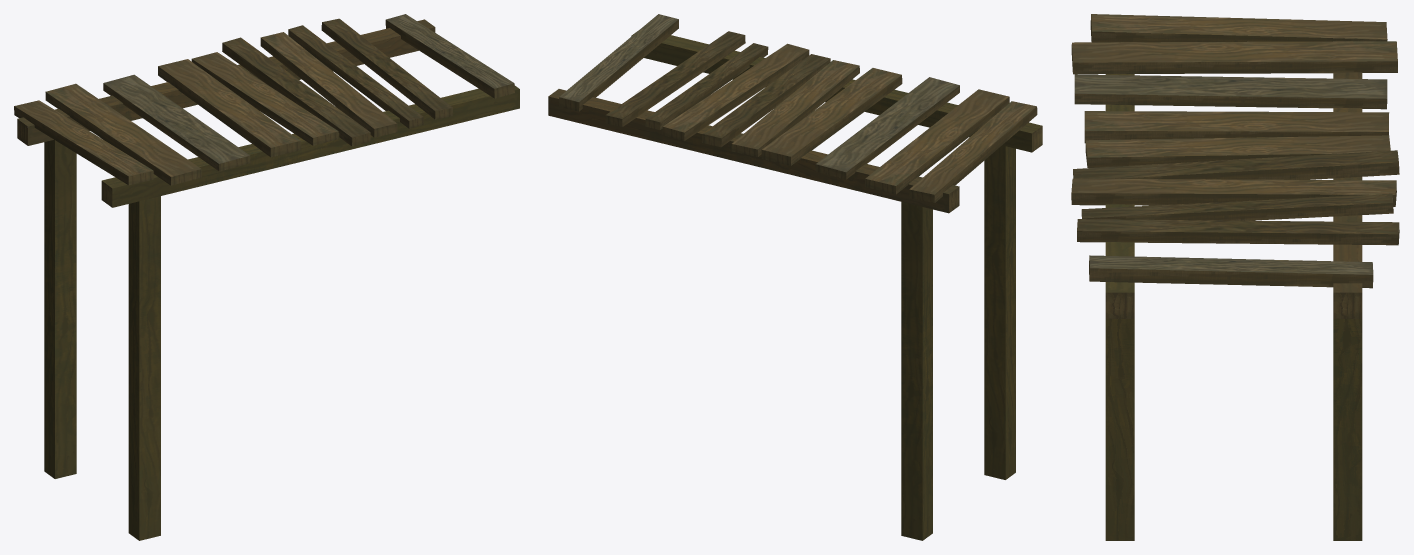
Rendered from Docks01.fbx.
3 renders of one model, left to right at view 1: azimuth 30°, elevation 25°; view 2: azimuth 150°, elevation 25°; view 3: azimuth 270°, elevation 25°, orthographic. The views are drawn at different scales.
Parts seen in each view (by area): view 1: Docks_01; view 2: Docks_01; view 3: Docks_01.
Boxes of the visible parts, x1,y1,x2,y2 form: Docks_01: [14, 14, 519, 540]; Docks_01: [548, 14, 1042, 540]; Docks_01: [1071, 14, 1399, 540].
Size of the model in its own units: 4.42 by 3.86 by 2.28.
1 material, 1 textured.
